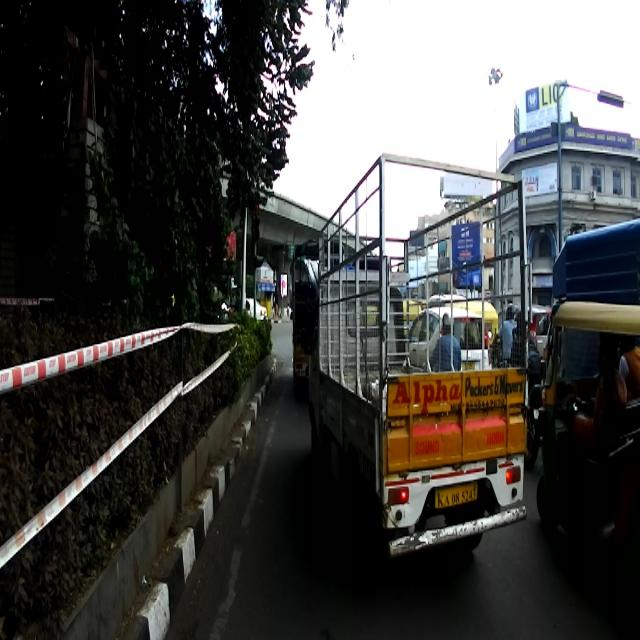autorickshaw: (536, 298, 638, 546)
truck: (297, 150, 534, 574)
